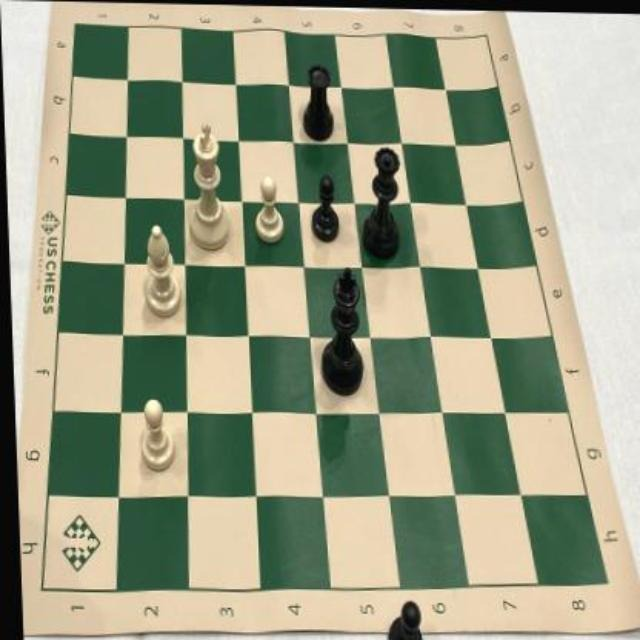black-king: (313, 257, 362, 398)
black-pawn: (307, 173, 341, 242)
black-queen: (356, 136, 400, 260)
black-rook: (296, 56, 336, 145)
white-bishop: (136, 222, 180, 320)
white-king: (181, 118, 231, 254)
white-pawn: (131, 394, 175, 475), (250, 171, 283, 244)
